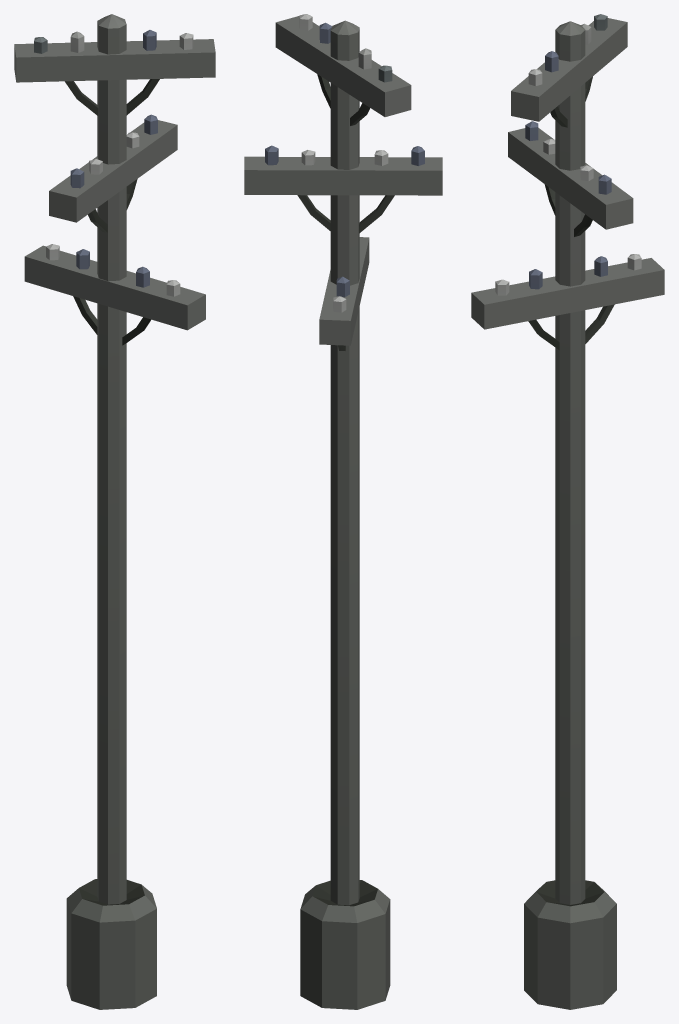
Rendered from Telephone_Pole_1.glb.
3 renders of one model, left to right at view 1: azimuth 30°, elevation 25°; view 2: azimuth 150°, elevation 25°; view 3: azimuth 270°, elevation 25°, orthographic.
Visible parts, largest first — view 1: post_withoutCables; view 2: post_withoutCables; view 3: post_withoutCables.
Boxes of the visible parts, left/top/right/bottom form: post_withoutCables: left=14, top=14, right=215, bottom=1009; post_withoutCables: left=244, top=14, right=442, bottom=1009; post_withoutCables: left=471, top=14, right=664, bottom=1009.
Size of what is drawn, in the model's own units: 0.8821 by 4.93 by 0.891.
1 material, 1 textured.
